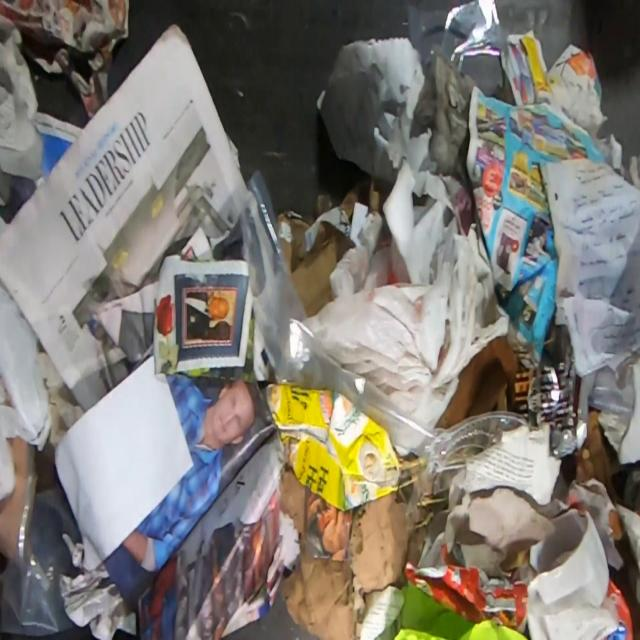cardboard: (278, 464, 416, 640), (264, 383, 426, 511), (402, 542, 530, 631), (435, 333, 530, 429), (277, 212, 348, 317), (0, 436, 37, 562), (602, 576, 633, 640), (608, 511, 624, 541)
metal: (539, 345, 587, 458)
soft_plastic: (242, 170, 540, 517), (405, 0, 587, 93), (0, 481, 84, 636), (574, 409, 619, 500)
